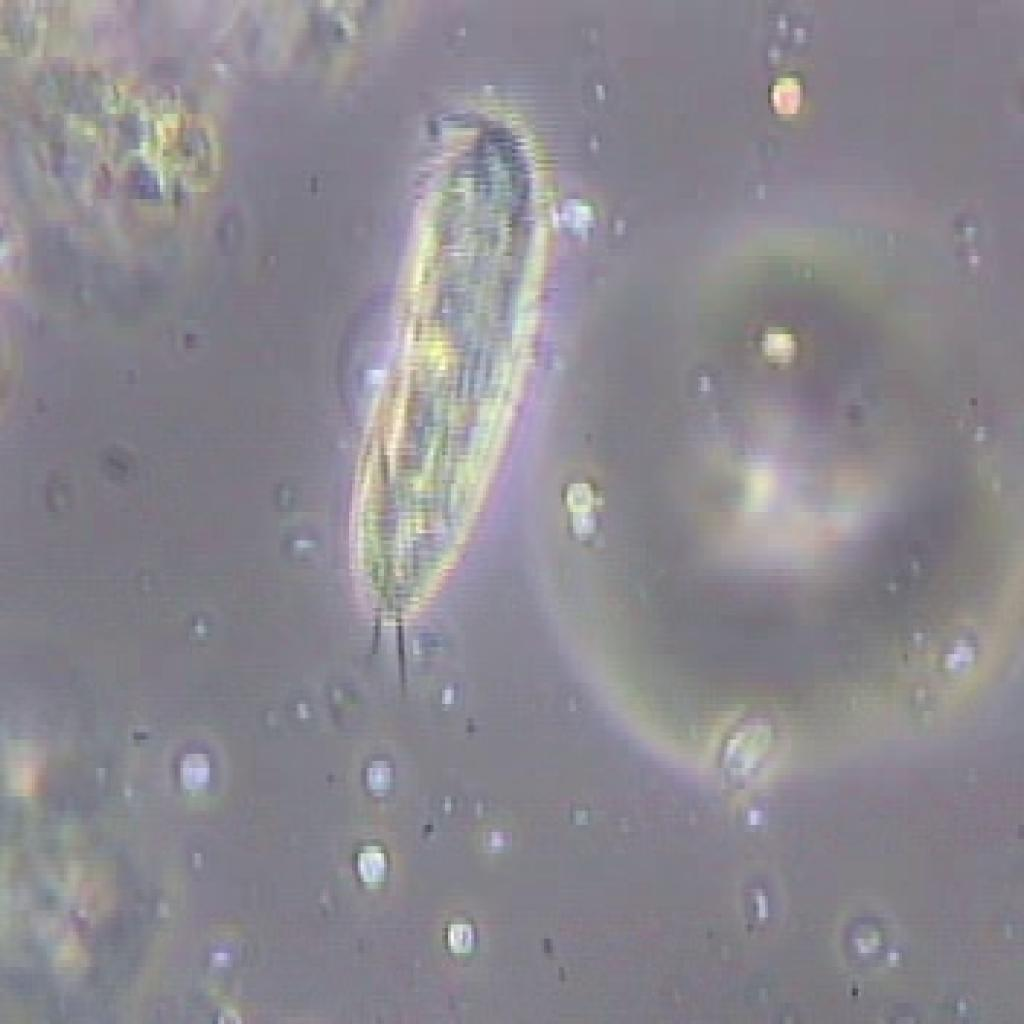Stylonychia: (317, 70, 559, 710)
